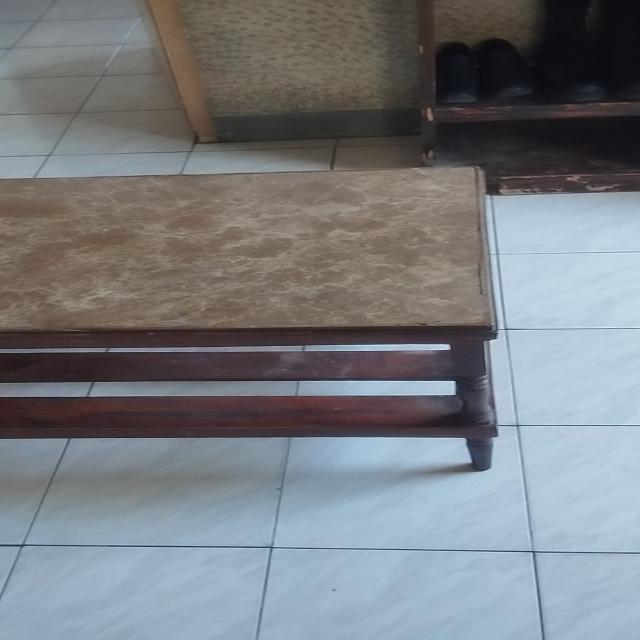table: (0, 164, 513, 479)
